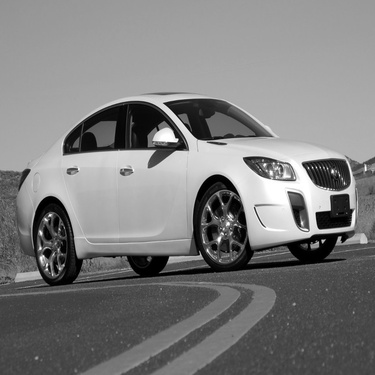car: (13, 86, 361, 282)
